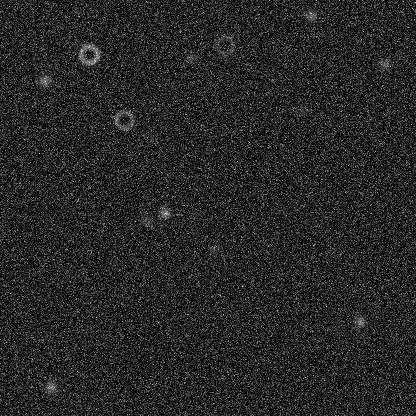Ring: (212, 33, 236, 57), (112, 107, 136, 131), (76, 42, 100, 66)
Spot: (62, 361, 78, 377), (138, 212, 154, 228), (206, 240, 222, 256), (42, 378, 58, 394), (201, 74, 217, 90), (183, 50, 199, 66), (35, 72, 51, 88), (156, 204, 172, 220), (377, 56, 393, 72), (302, 7, 318, 23), (294, 102, 310, 118), (351, 313, 367, 329)
